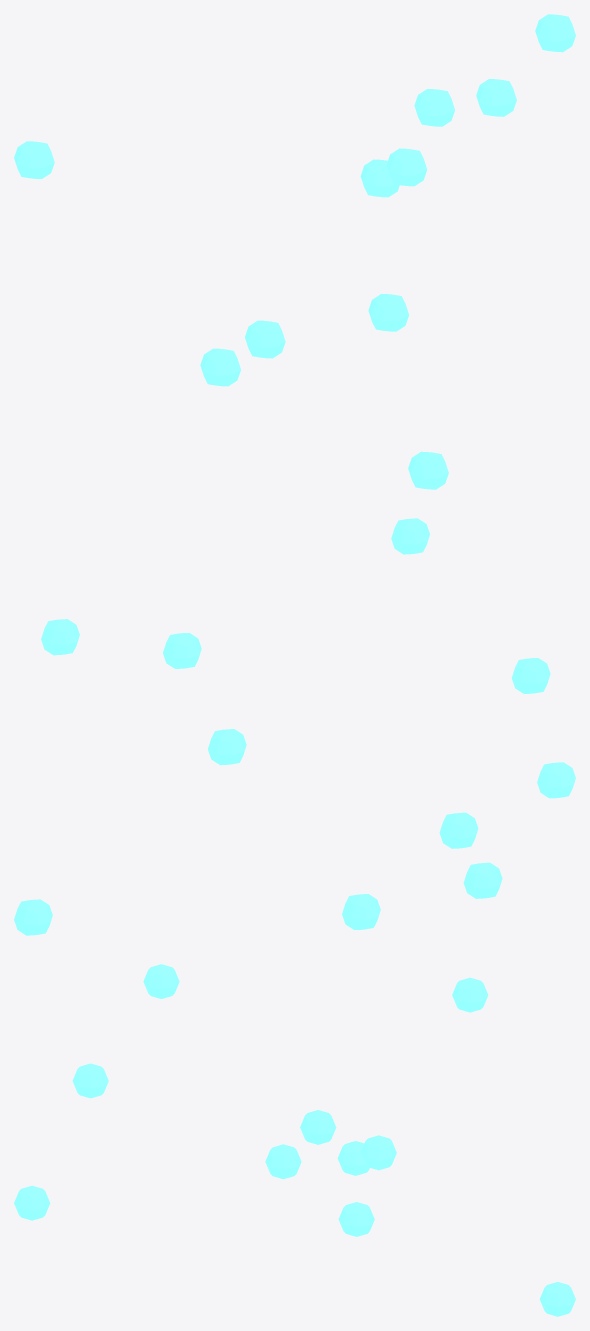
Rendered from Gluhwurmche_Heftige_Bewegung_2.fbx.
3 views of the same model, one above another, from view 1: azimuth 30°, elevation 25°; view 2: azimuth 150°, elevation 25°; view 3: azimuth 270°, elevation 25° (orthographic). The views are drawn at different scales.
Parts seen in each view (by area): view 1: 立方体.007, 立方体.002; view 2: 立方体.007, 立方体.002; view 3: 立方体.007, 立方体.002.
Part boxes in pixels (bbox=[...]): 立方体.007: bbox=[14, 79, 516, 489]; 立方体.002: bbox=[245, 14, 575, 358]; 立方体.007: bbox=[163, 633, 575, 898]; 立方体.002: bbox=[14, 518, 429, 935]; 立方体.007: bbox=[14, 977, 488, 1220]; 立方体.002: bbox=[143, 964, 575, 1316].
Size of the model in its own units: 184 by 117 by 201.
